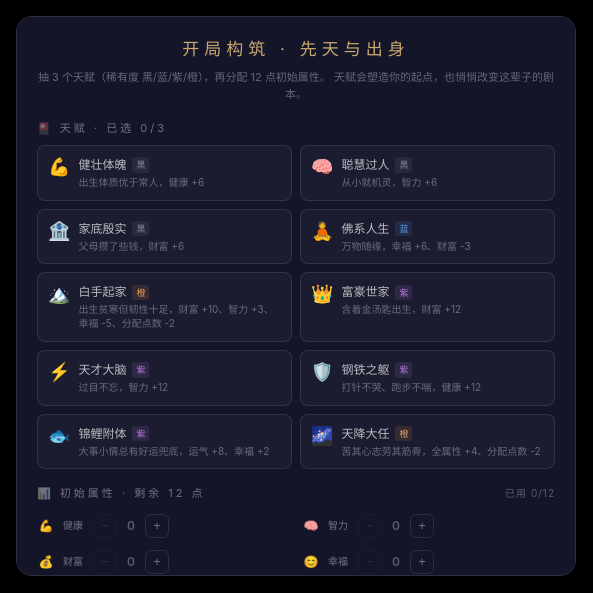
Test: BuildModal › 选择达到上限后其余天赋禁用
Click the button "💪 健壮体魄 黑 出生体质优于常人，健康 +6" at (164, 173), box [37, 145, 292, 201]
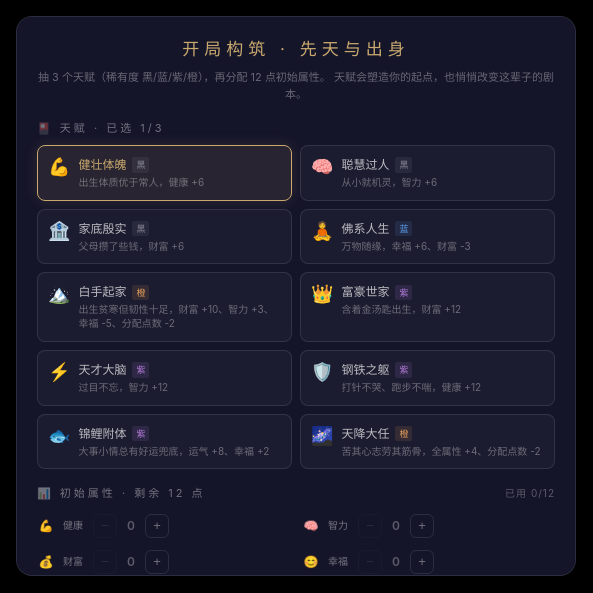
Click the button "🧠 聪慧过人 黑 从小就机灵，智力 +6" at (428, 173), box [300, 145, 555, 201]
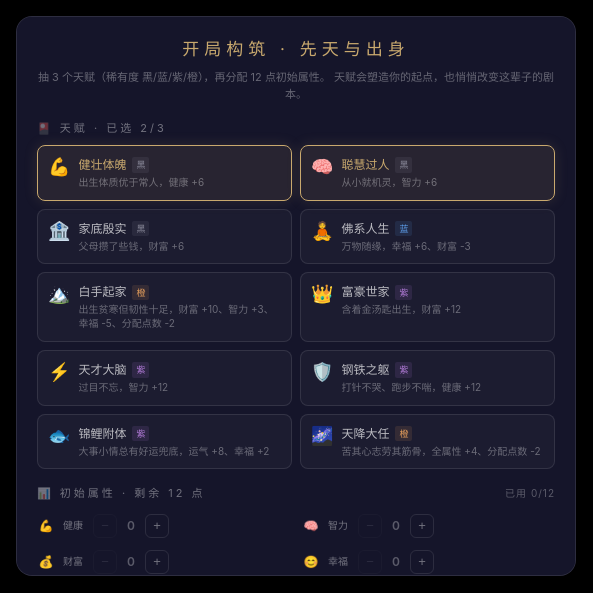
Click the button "🏦 家底殷实 黑 父母攒了些钱，财富 +6" at (164, 236), box [37, 208, 292, 264]
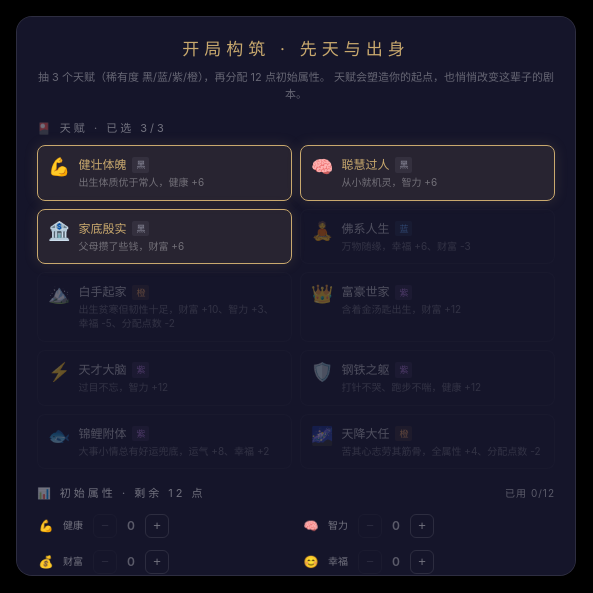
Now the text "🎴 天赋 · 已选 3/3" is shown, box [37, 120, 167, 137]
Now the button "🧘 佛系人生 蓝 万物随缘，幸福 +6、财富 -3" is disabled, box [300, 208, 555, 264]
Now the button "🛡️ 钢铁之躯 紫 打针不哭、跑步不喘，健康 +12" is disabled, box [300, 350, 555, 406]
